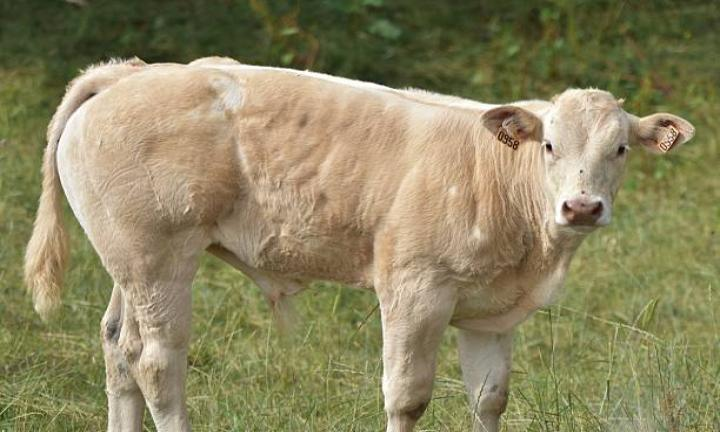Charolais: (25, 58, 693, 430)
